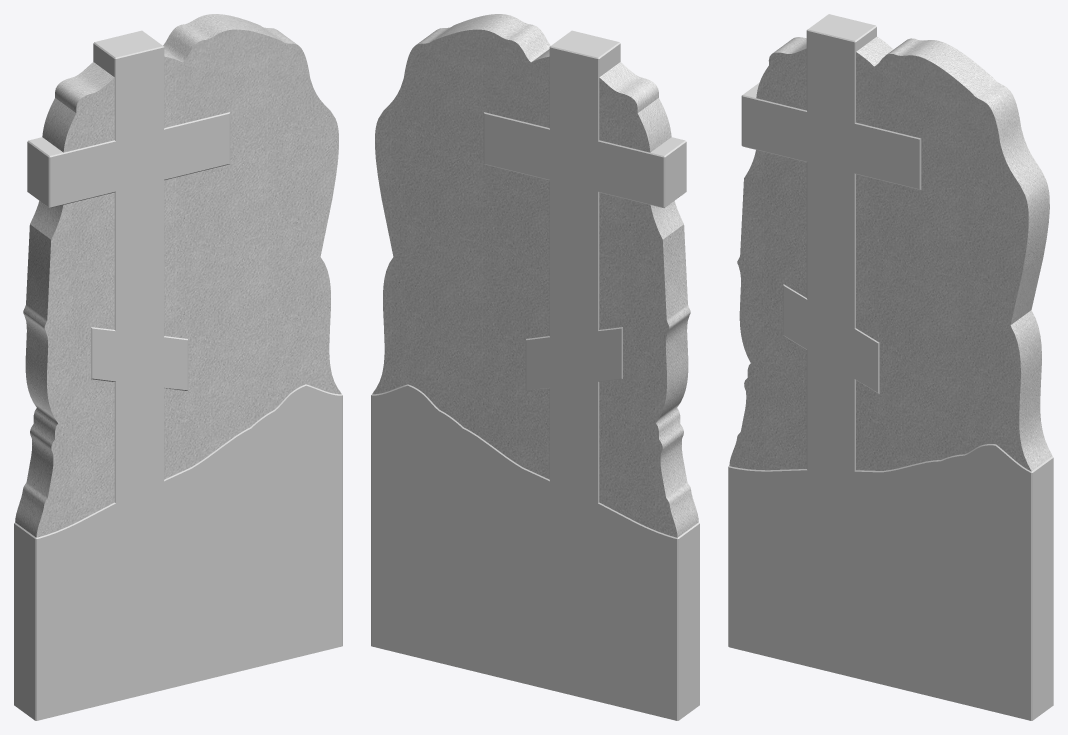
The model's file is cn28998d2572_tkf.glb.
3 renders of one model, left to right at view 1: azimuth 30°, elevation 25°; view 2: azimuth 150°, elevation 25°; view 3: azimuth 330°, elevation 25°, orthographic.
Visible parts, largest first — view 1: Pam-v-118-1, Pam-v-118-1_2_notexture; view 2: Pam-v-118-1, Pam-v-118-1_2_notexture; view 3: Pam-v-118-1, Pam-v-118-1_2_notexture.
Part boxes in pixels (left/top/right/bottom): Pam-v-118-1: left=14, top=30, right=342, bottom=720; Pam-v-118-1_2_notexture: left=15, top=14, right=341, bottom=537; Pam-v-118-1: left=371, top=30, right=699, bottom=720; Pam-v-118-1_2_notexture: left=372, top=14, right=698, bottom=537; Pam-v-118-1: left=728, top=14, right=1053, bottom=720; Pam-v-118-1_2_notexture: left=729, top=36, right=1052, bottom=471.
Size of the model in its own units: 0.4 by 0.8 by 0.05.
Materials: 1 (1 with a texture image).
